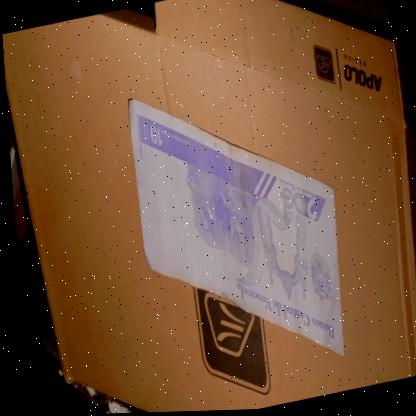ten-back-vef: (105, 61, 369, 393)
